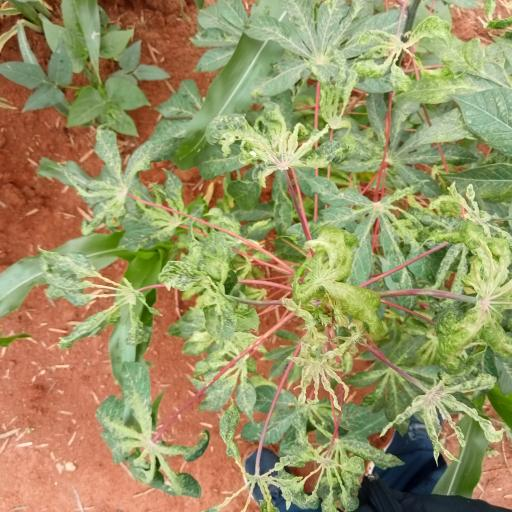Cassava_Mosaic: (97, 359, 213, 487), (251, 0, 387, 81), (212, 97, 334, 183), (39, 250, 157, 336), (291, 436, 401, 506)
